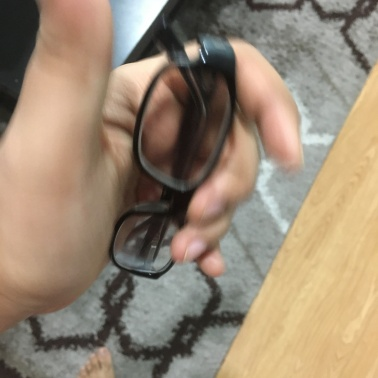glasses: (109, 41, 219, 283)
